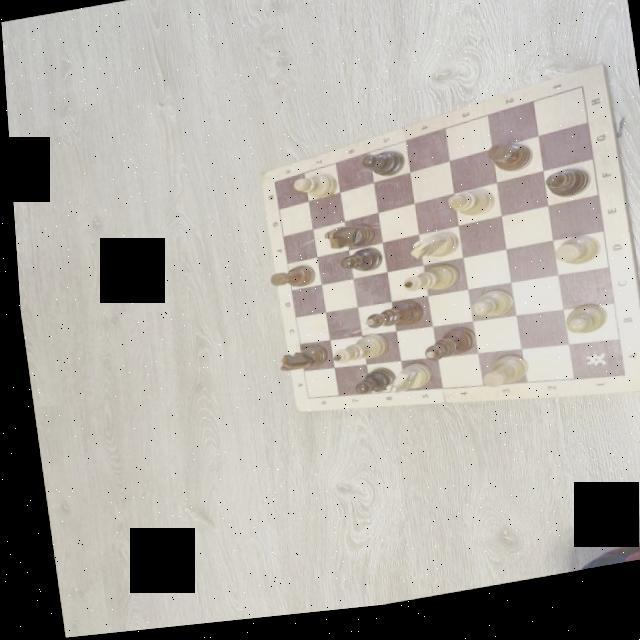chess-table-corners: (570, 92, 588, 106), (608, 382, 626, 393), (264, 182, 277, 192), (298, 399, 306, 408)
